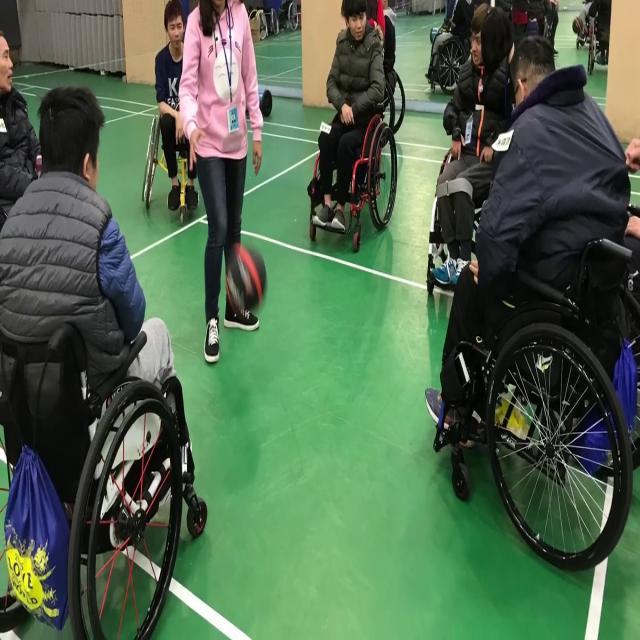wheelchairs: (414, 172, 640, 587), (0, 314, 208, 640), (304, 34, 414, 264), (138, 72, 255, 249), (422, 2, 514, 129)
